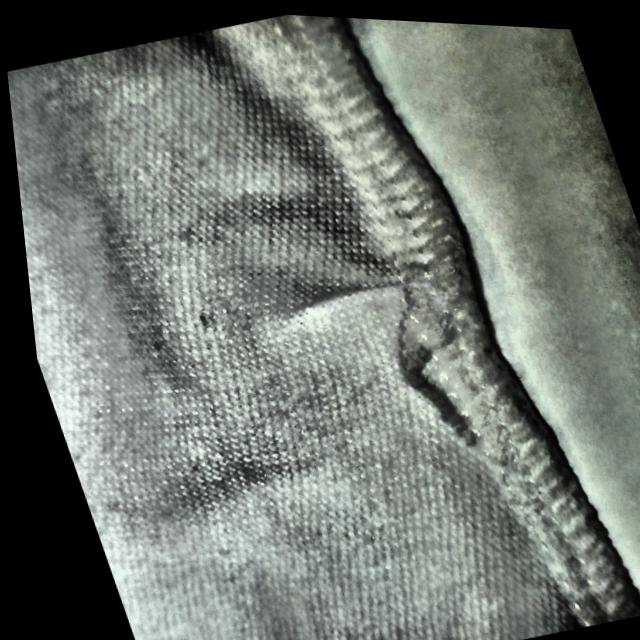seam: (275, 218, 524, 466)
